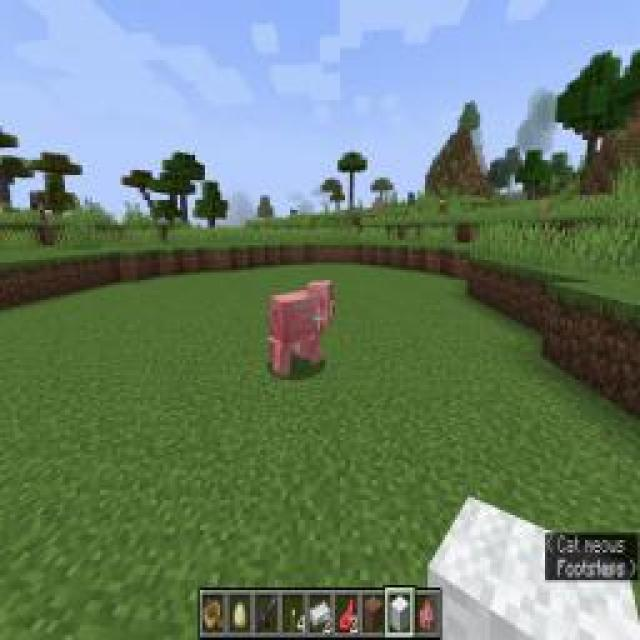Pig: (266, 278, 336, 380)
